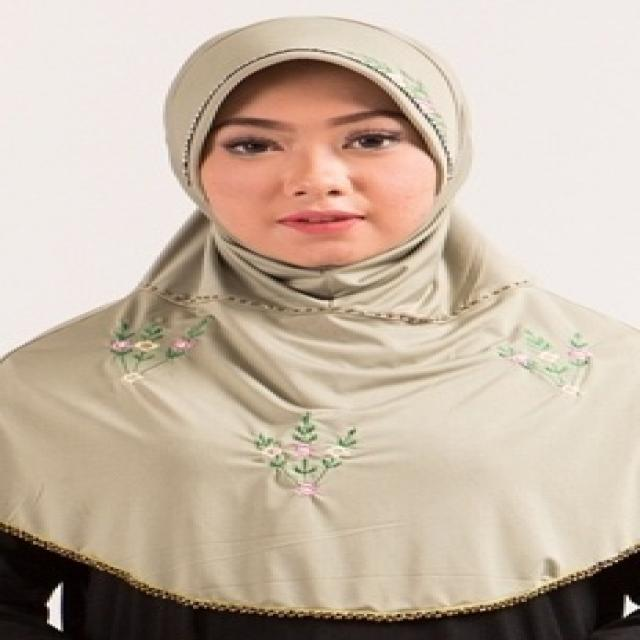head: (152, 15, 492, 270)
